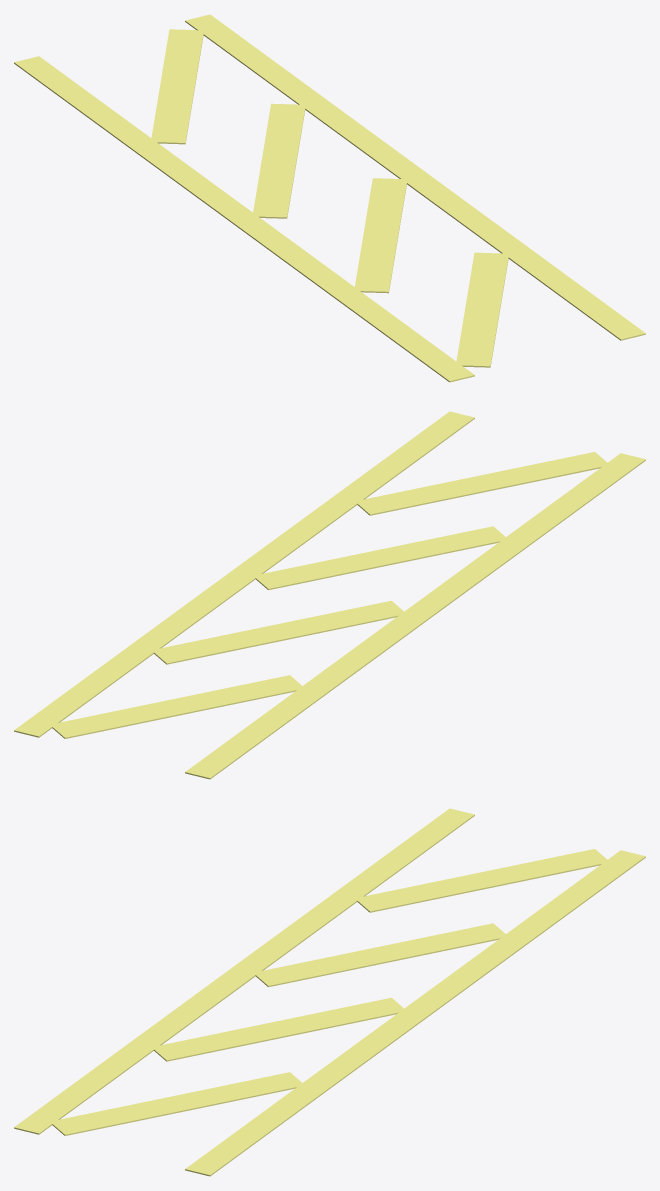
Rendered from marking_hatched_median_yellow.glb.
3 views of the same model, one above another, from view 1: azimuth 30°, elevation 25°; view 2: azimuth 150°, elevation 25°; view 3: azimuth 330°, elevation 25° (orthographic).
Visible parts, largest first — view 1: edge_left, edge_right, hatch_1, hatch_2, hatch_0, hatch_3; view 2: edge_left, edge_right, hatch_3, hatch_0, hatch_1, hatch_2; view 3: edge_right, edge_left, hatch_0, hatch_3, hatch_2, hatch_1.
Part boxes in pixels (x1=…): edge_left: x1=14, y1=56, x2=474, y2=382; edge_right: x1=185, y1=14, x2=645, y2=340; hatch_1: x1=252, y1=103, x2=305, y2=218; hatch_2: x1=354, y1=178, x2=407, y2=293; hatch_0: x1=151, y1=29, x2=203, y2=144; hatch_3: x1=456, y1=252, x2=508, y2=367; edge_left: x1=185, y1=453, x2=645, y2=779; edge_right: x1=14, y1=411, x2=474, y2=737; hatch_3: x1=355, y1=452, x2=609, y2=515; hatch_0: x1=50, y1=675, x2=303, y2=738; hatch_1: x1=151, y1=600, x2=403, y2=664; hatch_2: x1=254, y1=526, x2=507, y2=590; edge_right: x1=185, y1=850, x2=645, y2=1176; edge_left: x1=14, y1=808, x2=474, y2=1134; hatch_0: x1=356, y1=849, x2=608, y2=912; hatch_3: x1=50, y1=1072, x2=303, y2=1135; hatch_2: x1=151, y1=997, x2=403, y2=1061; hatch_1: x1=254, y1=923, x2=507, y2=987.
Bounding box in the file's own units: 0.78 × 0.005 × 3.
